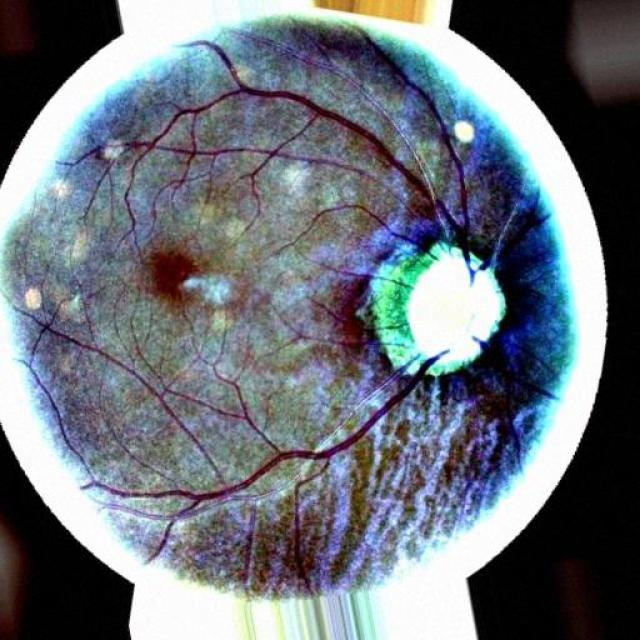Macula: (155, 250, 199, 299)
Nerves: (120, 40, 512, 282), (41, 322, 448, 549), (311, 201, 386, 226)
Optic Disk: (411, 248, 503, 363)
